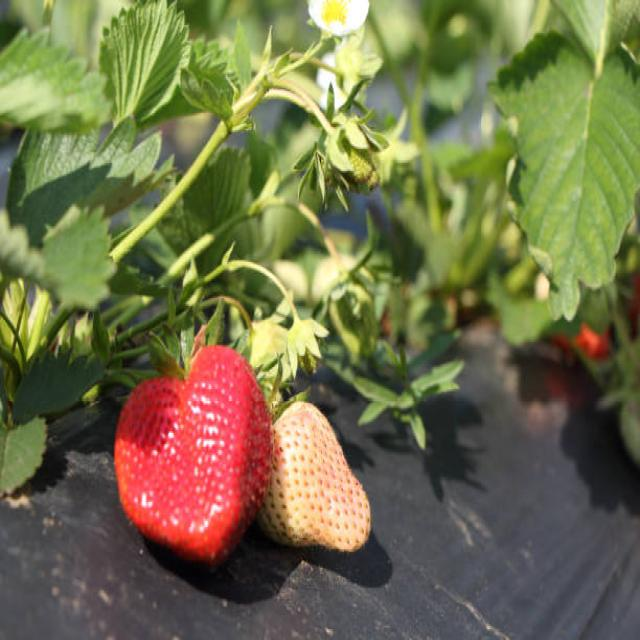Healthy Fruit: (114, 343, 276, 563), (260, 399, 373, 553)
